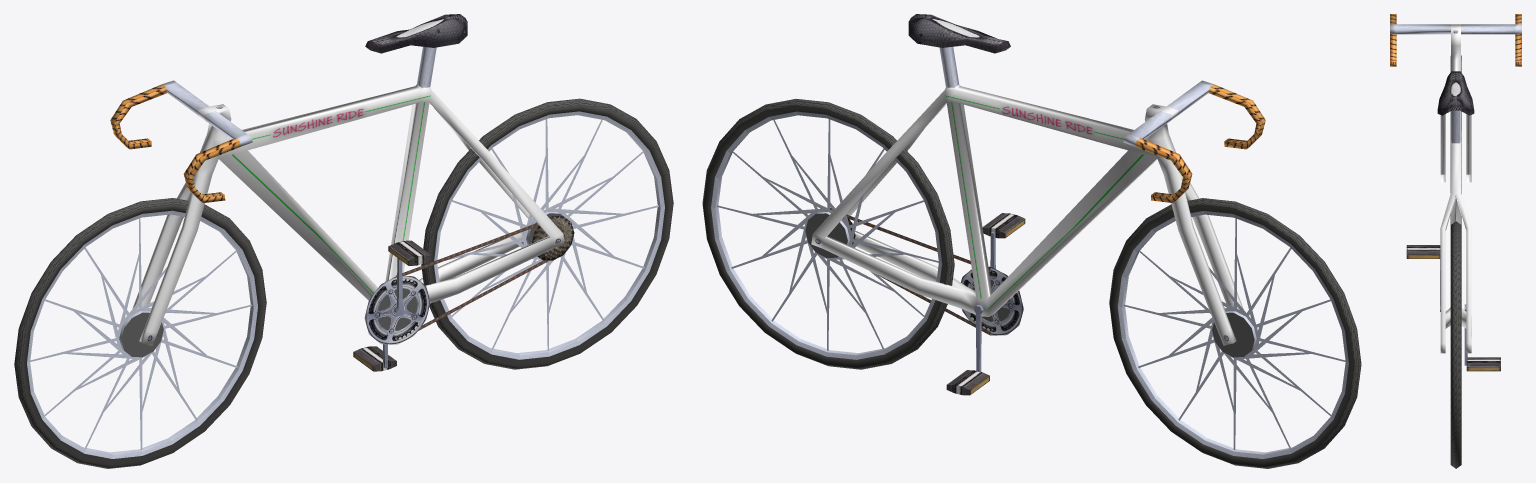
File: UDC_BycicleWhite.obj
3 renders of one model, left to right at view 1: azimuth 30°, elevation 25°; view 2: azimuth 150°, elevation 25°; view 3: azimuth 270°, elevation 25°, orthographic. The views are drawn at different scales.
Visible parts, largest first — view 1: UDC_BycicleWhite; view 2: UDC_BycicleWhite; view 3: UDC_BycicleWhite.
Part boxes in pixels (<box>): UDC_BycicleWhite: <box>14,14,673,468</box>; UDC_BycicleWhite: <box>702,14,1361,468</box>; UDC_BycicleWhite: <box>1390,14,1521,468</box>.
Size of the model in its own units: 0.6685 by 0.3616 by 0.1357.
1 material, 1 textured.
